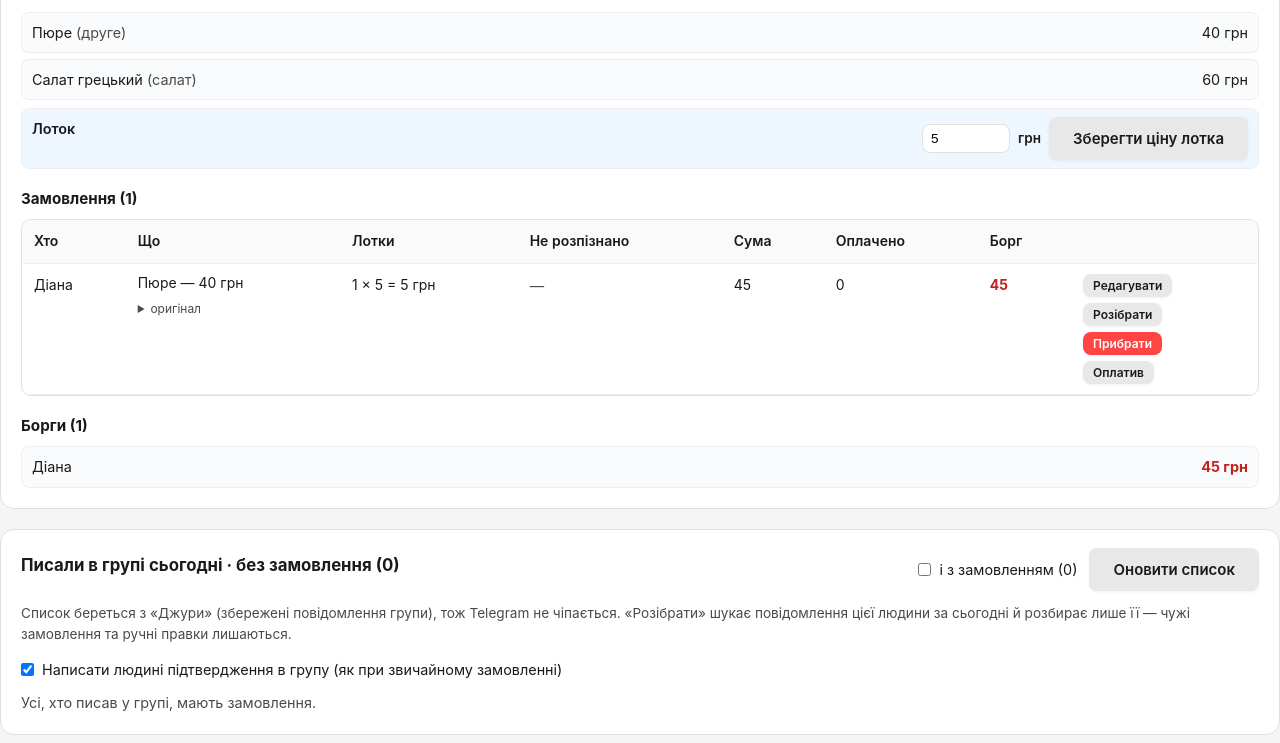
LunchTab · розбір окремої людини › «Прибрати» питає підтвердження і викликає DELETE
(page scrolled)
Click the button "Прибрати" at (1123, 343), box [1083, 332, 1162, 355]
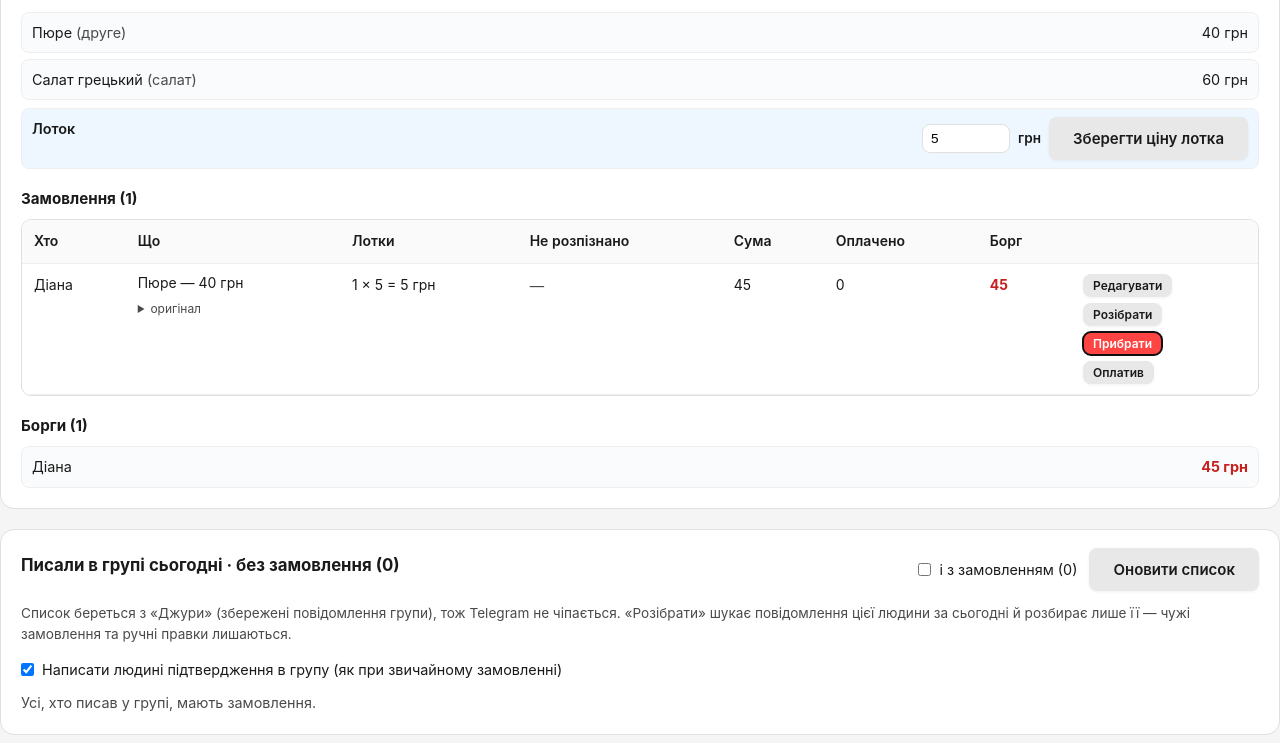
Click the button "Прибрати" at (1123, 343), box [1083, 332, 1162, 355]
(page scrolled)
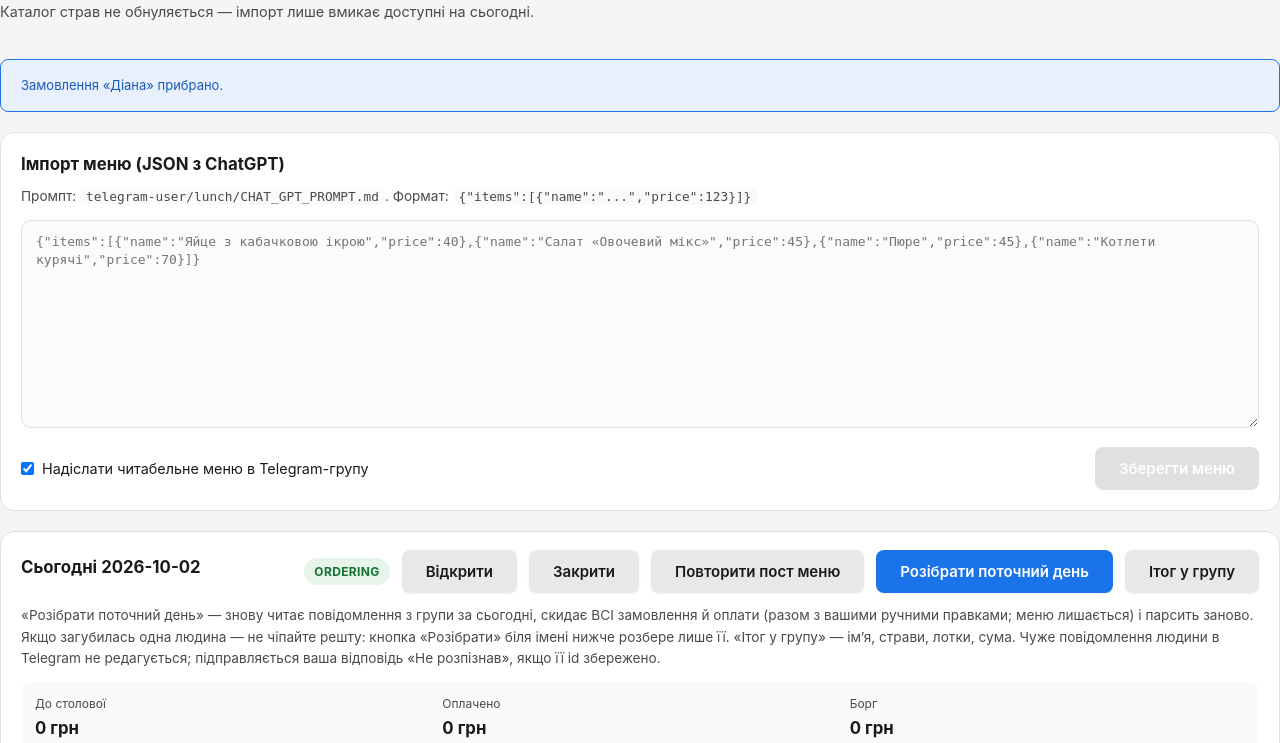
Expected: the text "Замовлення «Діана» прибрано." is shown, [0, 59, 1279, 112]
